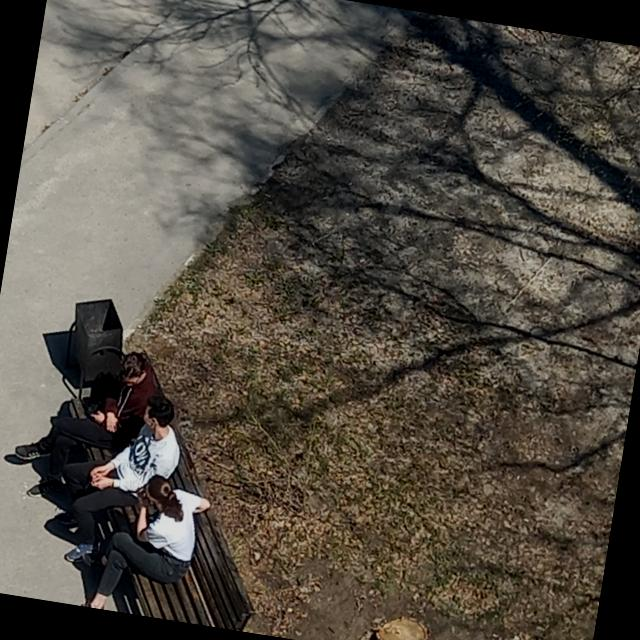person: (7, 336, 168, 514), (46, 382, 188, 575), (82, 466, 214, 624)
